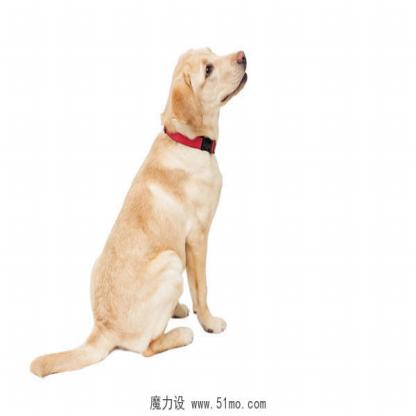Labarador Retriever: (23, 34, 252, 380)
